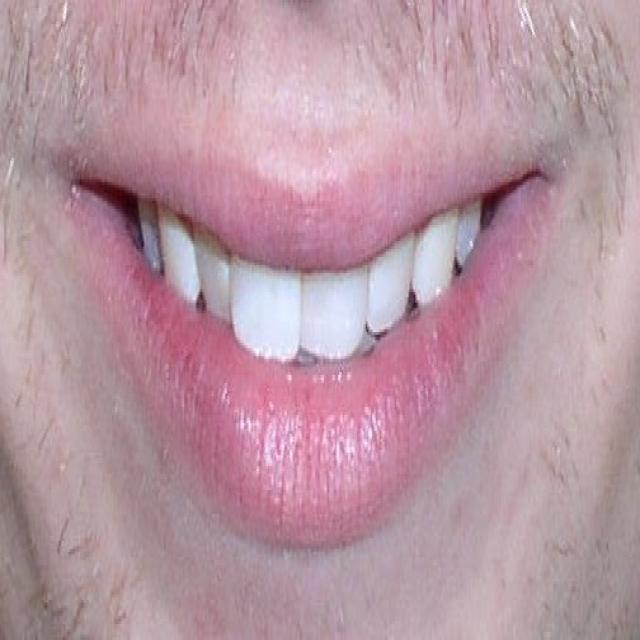tooth: (300, 271, 360, 364), (235, 270, 297, 359), (195, 236, 230, 321), (422, 220, 451, 310), (370, 265, 412, 316), (161, 220, 188, 289), (461, 198, 484, 249), (138, 196, 156, 257)
